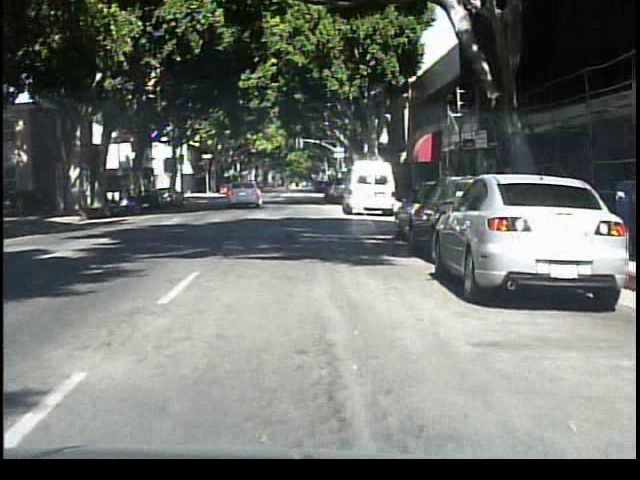person: (278, 169, 298, 202)
